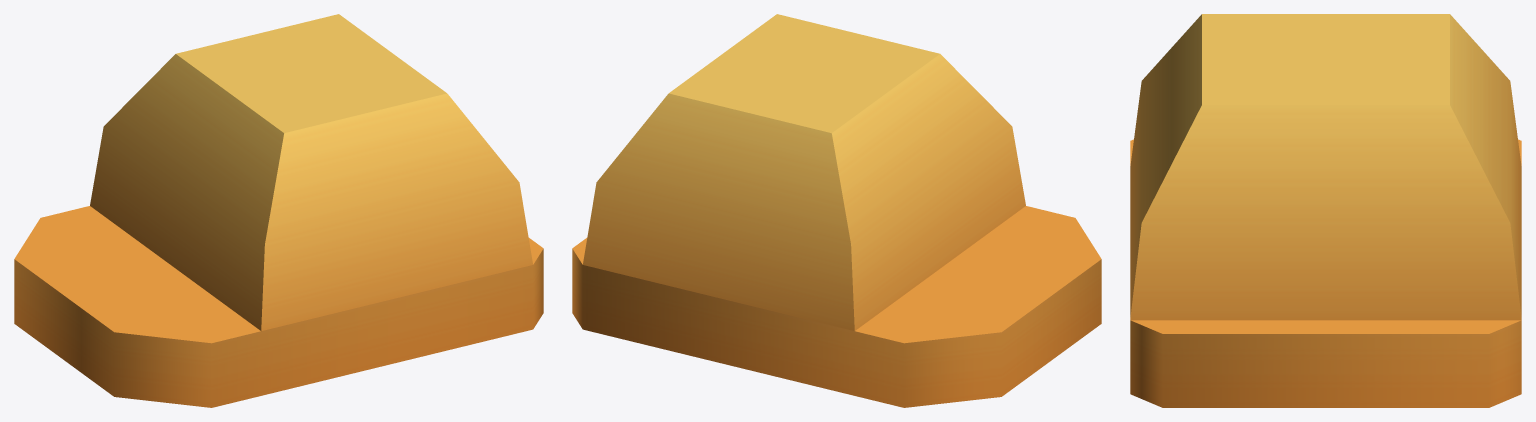
File: hat-hard.fbx
3 views of the same model, side by side, from view 1: azimuth 30°, elevation 25°; view 2: azimuth 150°, elevation 25°; view 3: azimuth 270°, elevation 25° (orthographic). The views are drawn at different scales.
Parts seen in each view (by area): view 1: hat-hard; view 2: hat-hard; view 3: hat-hard.
Part boxes in pixels (x1=…): hat-hard: x1=14, y1=14, x2=543, y2=407; hat-hard: x1=572, y1=14, x2=1101, y2=407; hat-hard: x1=1130, y1=14, x2=1521, y2=407.
Bounding box in the file's own units: 33 × 17.5 × 24.
